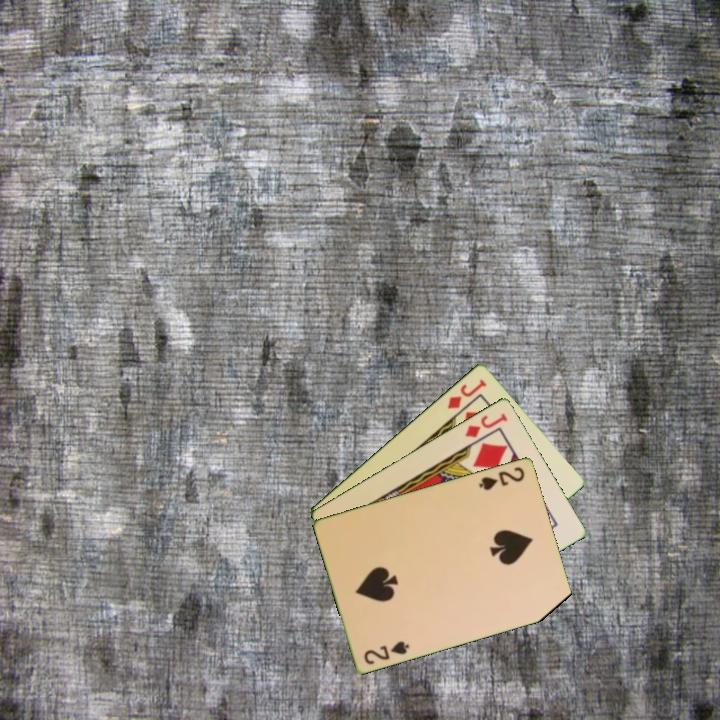2s: (475, 463, 528, 493), (361, 637, 412, 667)
Jd: (444, 375, 490, 411), (461, 409, 510, 440)
